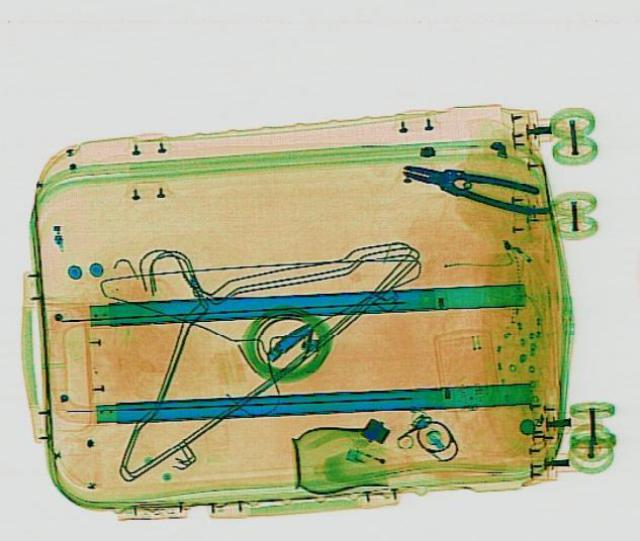Pliers: (396, 152, 554, 217)
